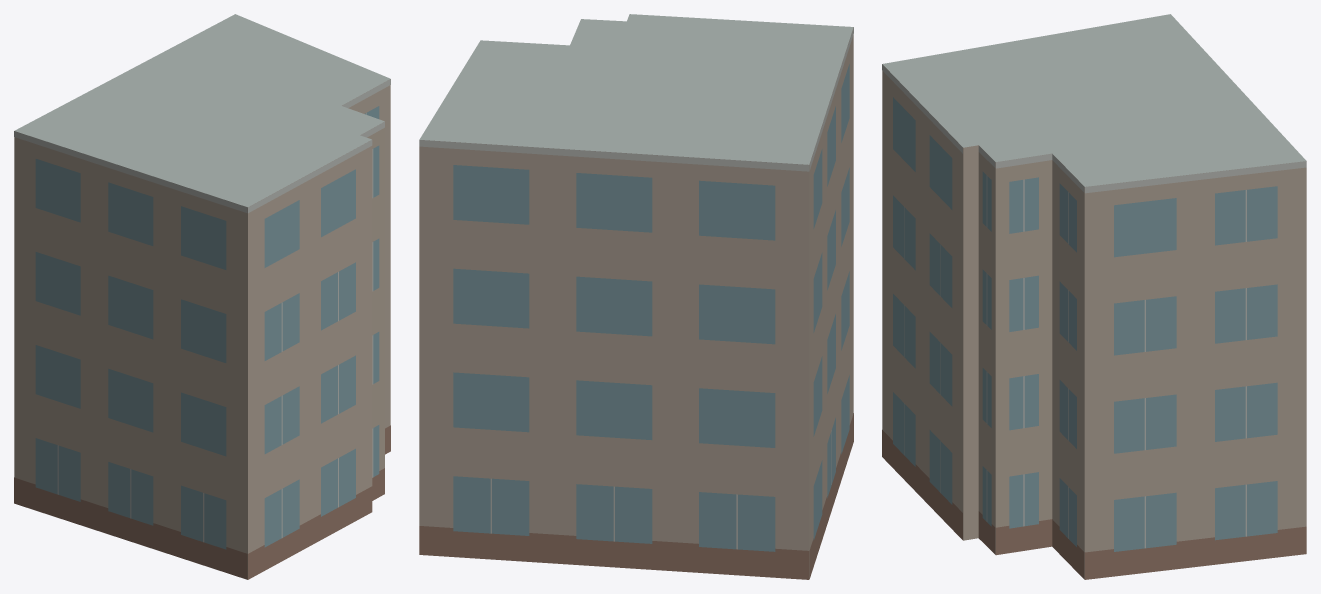
File: survey-upis-32853072.glb
3 views of the same model, side by side, from view 1: azimuth 30°, elevation 25°; view 2: azimuth 150°, elevation 25°; view 3: azimuth 270°, elevation 25° (orthographic). The views are drawn at different scales.
Parts seen in each view (by area): view 1: survey-upis-32853072.tmp; view 2: survey-upis-32853072.tmp; view 3: survey-upis-32853072.tmp.
Boxes of the visible parts, box(x1,y1,x2,y2) form: survey-upis-32853072.tmp: box(14, 14, 390, 579); survey-upis-32853072.tmp: box(419, 14, 853, 579); survey-upis-32853072.tmp: box(882, 14, 1306, 579).
Bounding box in the file's own units: 14.07 × 14.9 × 14.6.
